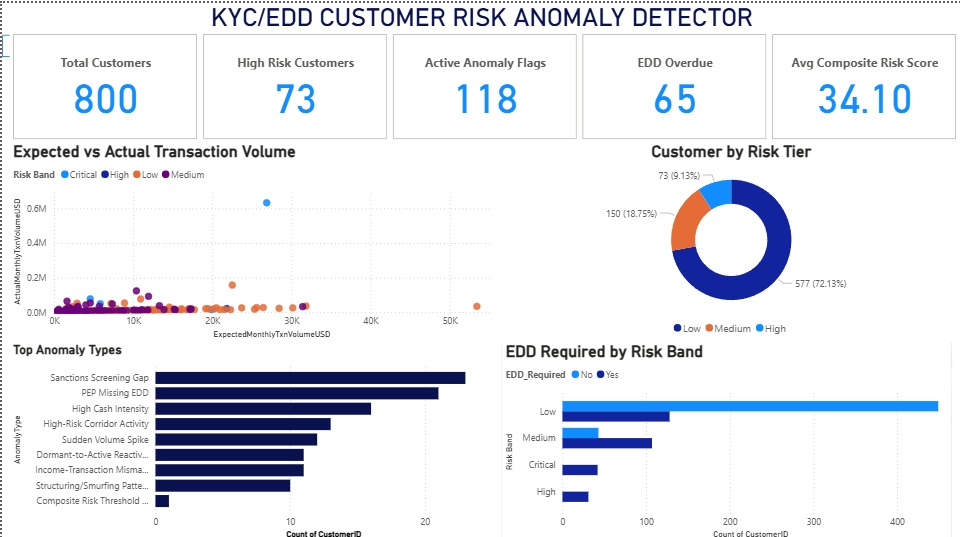

Layout of this report page (visuals, bound fields, positions):
{"tool":"powerbi","page":{"name":"Page 1","canvas":[1280,720],"ordinal":0},"visuals":[{"type":"image","box":[10,0,1270,720],"z":0},{"type":"shape","title":"  KYC/EDD CUSTOMER RISK ANOMALY DETECTOR","box":[0,0,1280,72],"z":1000},{"type":"textbox","box":[0,88,1280,158],"z":2000},{"type":"cardVisual","fields":{"Data":["CustomerRiskData.Total Customers","CustomerRiskData.High Risk Customers","CustomerRiskData.Active Anomaly Flags","CustomerRiskData.EDD Overdue","CustomerRiskData.Avg Composite Risk Score"]},"box":[10,36,1270,150],"z":3000},{"type":"donutChart","title":"Customer by Risk Tier","fields":{"Category":["CustomerRiskData.FinalRiskCategory"],"Y":["CountNonNull(CustomerRiskData.Risk Band)"]},"box":[665,185,615,267.5],"z":4000},{"type":"clusteredBarChart","title":"Top Anomaly Types","fields":{"Category":["CustomerRiskData.AnomalyType"],"Y":["CountNonNull(CustomerRiskData.CustomerID)"]},"box":[10,452,656,268],"z":5000},{"type":"clusteredBarChart","title":"EDD Required by Risk Band","fields":{"Category":["CustomerRiskData.Risk Band"],"Series":["CustomerRiskData.EDD_Required"],"Y":["CountNonNull(CustomerRiskData.CustomerID)"]},"box":[666,452,598,268],"z":6000},{"type":"scatterChart","title":"Expected vs Actual Transaction Volume","fields":{"X":["CustomerRiskData.ExpectedMonthlyTxnVolumeUSD"],"Y":["CustomerRiskData.ActualMonthlyTxnVolumeUSD"],"Series":["CustomerRiskData.Risk Band"]},"box":[10,185,655,267.5],"z":7000}]}

Visuals, with their boxes in screenshot pixels (x1, y1, x2, y2), scaled from the page's 1280x720 canvas onto the 960x537 screenshot:
image: pyautogui.locateOnScreen(8, 0, 959, 536)
"  KYC/EDD CUSTOMER RISK ANOMALY DETECTOR" shape: pyautogui.locateOnScreen(0, 0, 959, 54)
textbox: pyautogui.locateOnScreen(0, 66, 959, 183)
cardVisual - CustomerRiskData.Total Customers x CustomerRiskData.High Risk Customers: pyautogui.locateOnScreen(8, 27, 959, 139)
"Customer by Risk Tier" donutChart: pyautogui.locateOnScreen(499, 138, 959, 337)
"Top Anomaly Types" clusteredBarChart: pyautogui.locateOnScreen(8, 337, 500, 536)
"EDD Required by Risk Band" clusteredBarChart: pyautogui.locateOnScreen(500, 337, 948, 536)
"Expected vs Actual Transaction Volume" scatterChart: pyautogui.locateOnScreen(8, 138, 499, 337)
